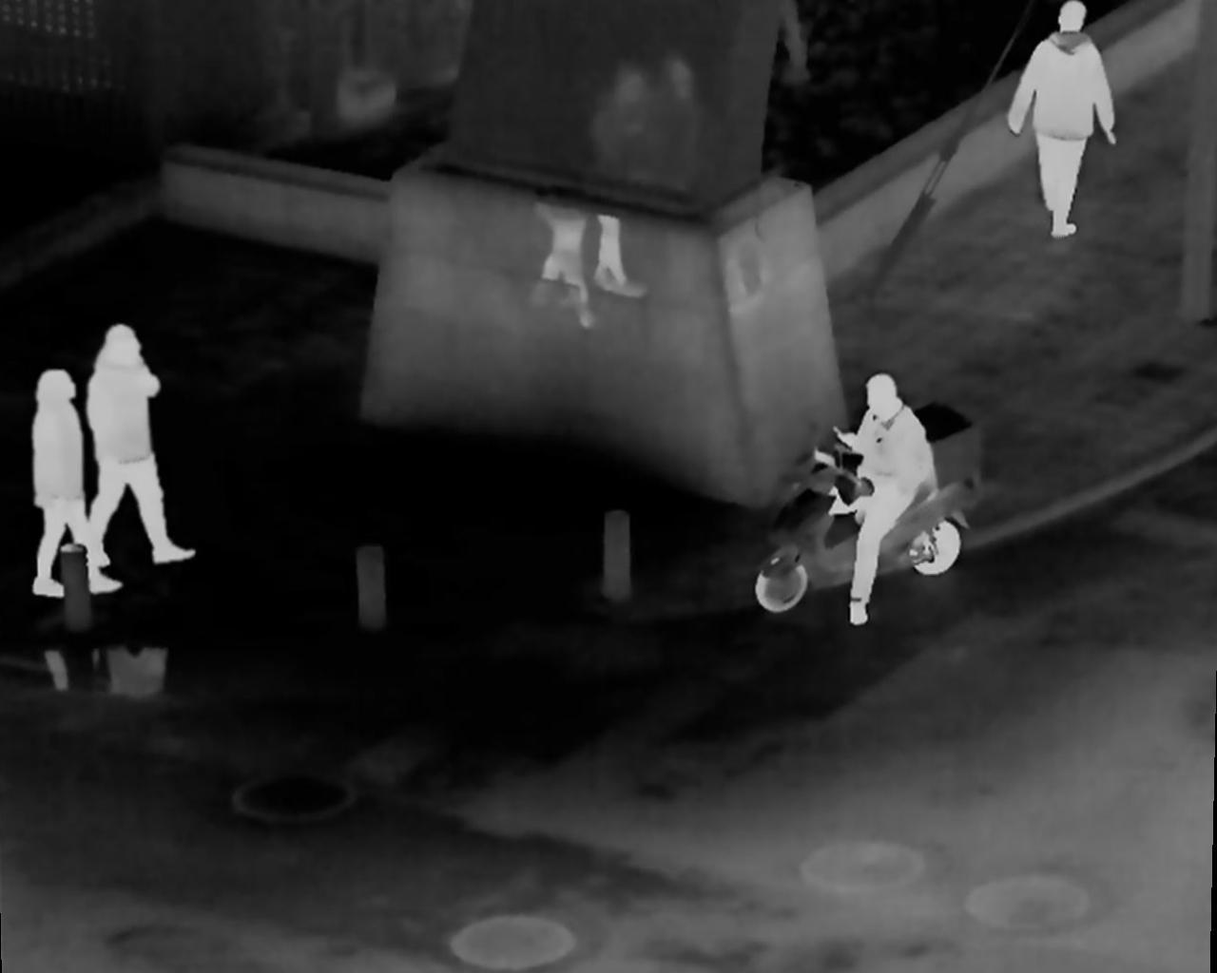person: (832, 362, 937, 628), (85, 324, 194, 557), (26, 367, 129, 601)
